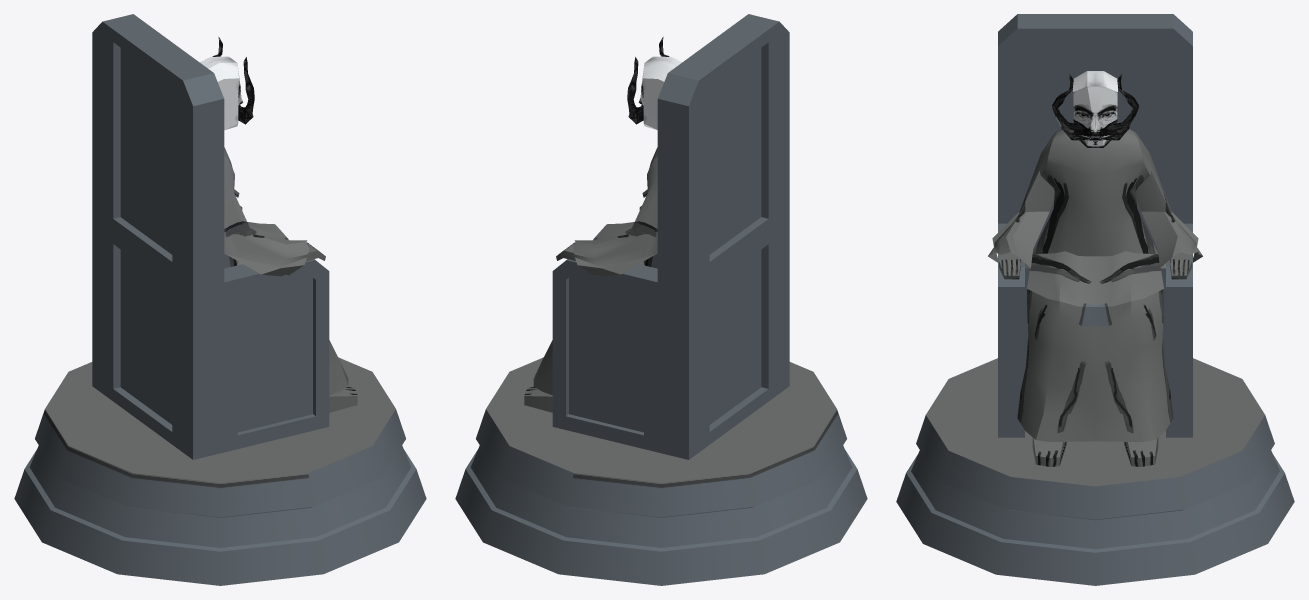
The model's file is statua.fbx.
3 views of the same model, side by side, from view 1: azimuth 30°, elevation 25°; view 2: azimuth 150°, elevation 25°; view 3: azimuth 270°, elevation 25° (orthographic). The views are drawn at different scales.
Visible parts, largest first — view 1: statua; view 2: statua; view 3: statua.
Part boxes in pixels (x1,y1,x2,y2): statua: (14,14,426,585); statua: (455,14,867,585); statua: (896,14,1294,585).
Bounding box in the file's own units: 200 × 250 × 200.
